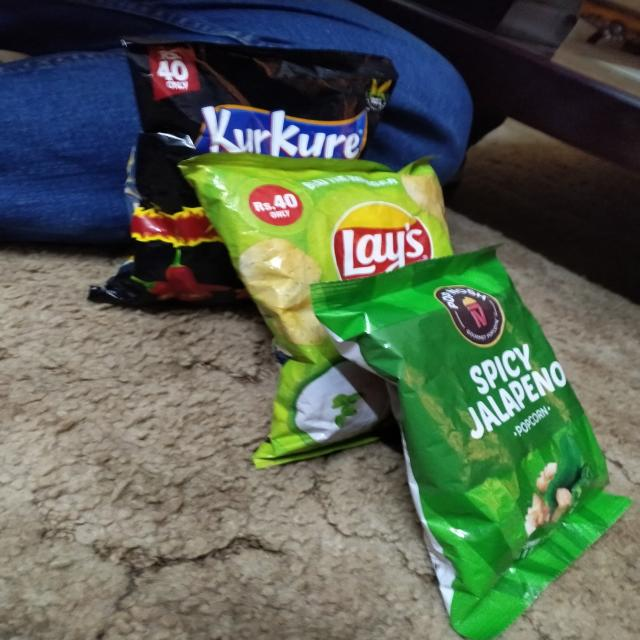Plastic: (301, 263, 635, 632), (126, 34, 390, 163), (190, 160, 452, 272)
